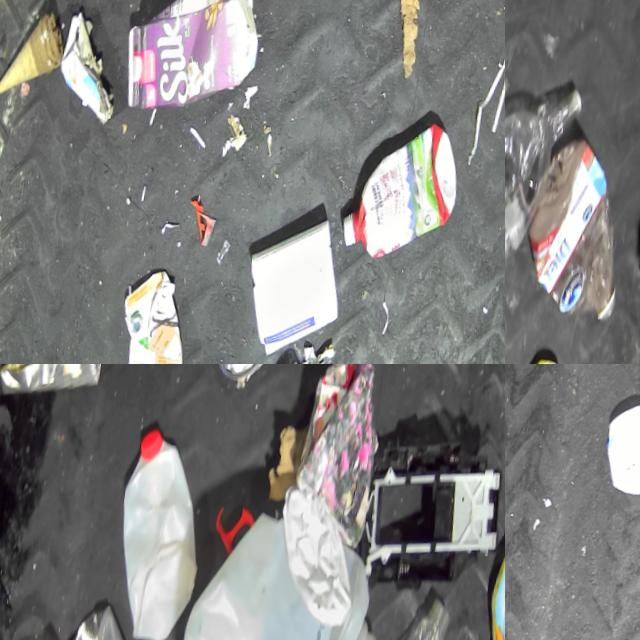can: (58, 589, 137, 640), (514, 342, 569, 364), (263, 348, 337, 364)
milk_jug: (158, 491, 395, 640), (104, 414, 219, 640)
non_white_jug: (341, 101, 469, 264), (121, 0, 267, 123), (116, 257, 198, 364)
plastic_bottle: (519, 114, 640, 319), (343, 576, 456, 640)
